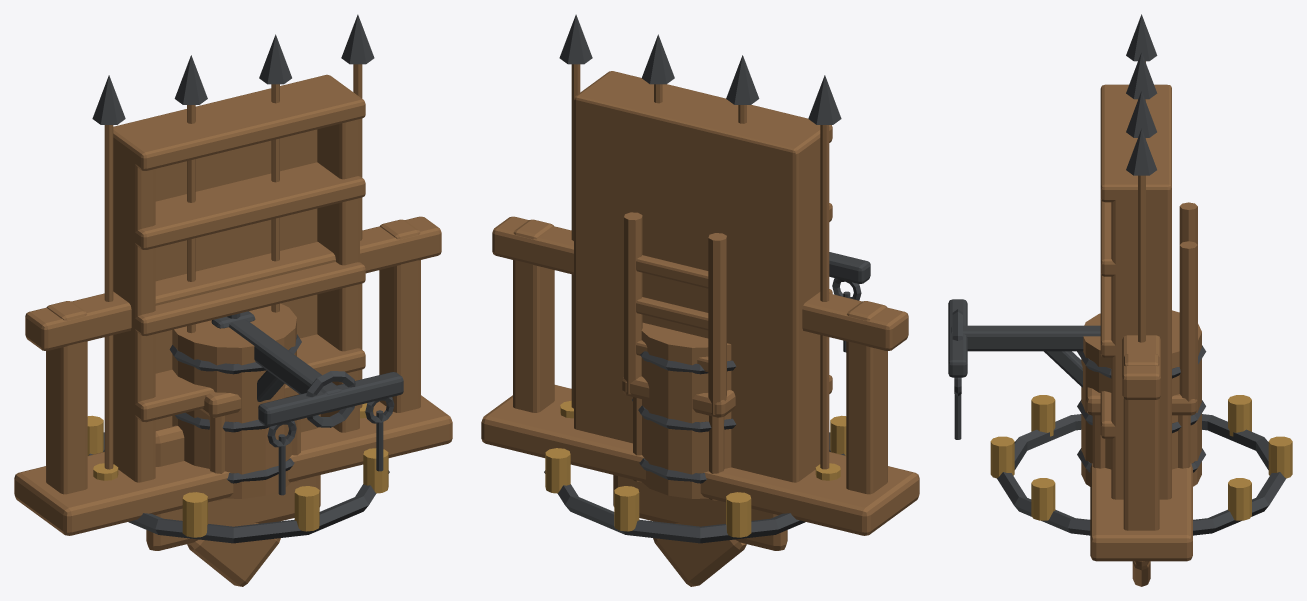
Rendered from architecture_detail_kit_v1.glb.
3 renders of one model, left to right at view 1: azimuth 30°, elevation 25°; view 2: azimuth 150°, elevation 25°; view 3: azimuth 270°, elevation 25°, orthographic. The views are drawn at different scales.
Visible parts, largest first — view 1: FurnitureBookshelf, CastleWeaponRack, FurnitureBarrel, HouseSignBracket, CastleChandelier, HouseSignBoard, FurnitureChair; view 2: FurnitureBookshelf, CastleWeaponRack, FurnitureChair, FurnitureBarrel, CastleChandelier, HouseSignBoard, HouseSignBracket; view 3: FurnitureBookshelf, CastleWeaponRack, CastleChandelier, HouseSignBracket, FurnitureChair, FurnitureBarrel, HouseSignBoard.
Boxes of the visible parts, x1,y1,x2,y2 form: FurnitureBookshelf: [113, 74, 365, 482]; CastleWeaponRack: [14, 14, 452, 535]; FurnitureBarrel: [169, 303, 301, 498]; HouseSignBracket: [211, 311, 403, 495]; CastleChandelier: [87, 313, 389, 543]; HouseSignBoard: [146, 414, 320, 586]; FurnitureChair: [200, 384, 300, 500]; FurnitureBookshelf: [574, 71, 832, 482]; CastleWeaponRack: [481, 14, 919, 535]; FurnitureChair: [622, 212, 735, 500]; FurnitureBarrel: [632, 322, 736, 498]; CastleChandelier: [544, 400, 846, 543]; HouseSignBoard: [613, 475, 787, 586]; HouseSignBracket: [829, 252, 870, 352]; FurnitureBookshelf: [1100, 84, 1171, 499]; CastleWeaponRack: [1090, 14, 1192, 561]; CastleChandelier: [990, 395, 1292, 535]; HouseSignBracket: [948, 299, 1100, 439]; FurnitureChair: [1086, 202, 1197, 468]; FurnitureBarrel: [1077, 310, 1206, 486]; HouseSignBoard: [1132, 561, 1150, 586].
Bounding box in the file's own units: 3.6 × 4.68 × 2.85.
